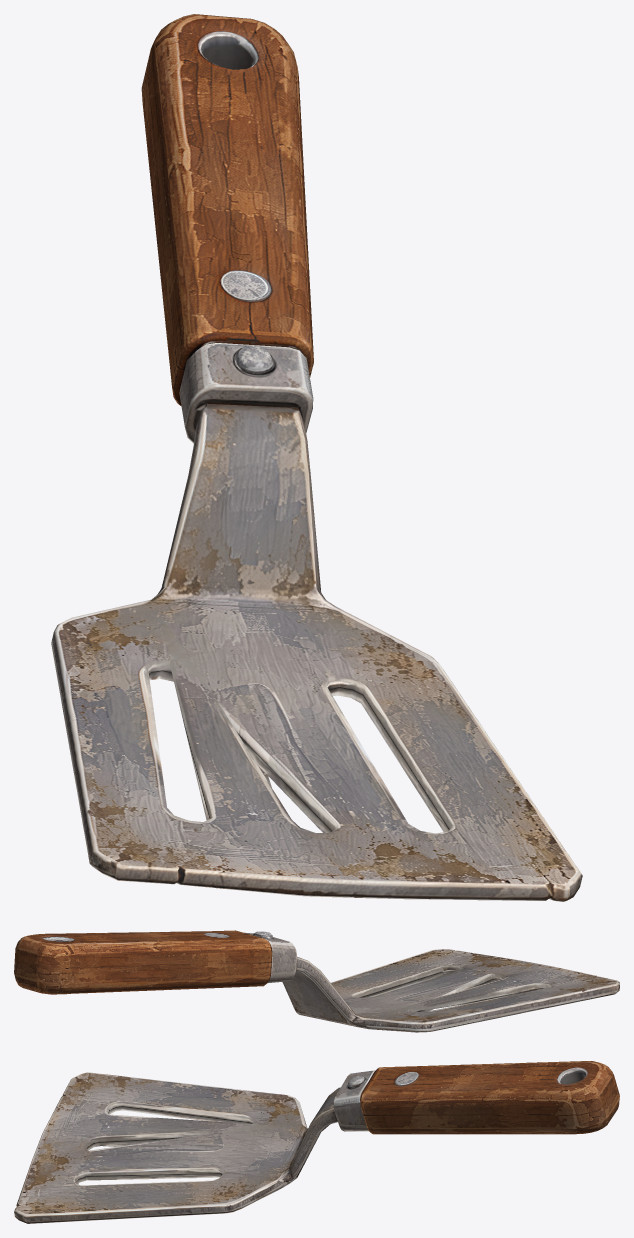
File: P30_flat_spatula_Runtime_1k.glb
3 renders of one model, top to bottom at view 1: azimuth 30°, elevation 25°; view 2: azimuth 150°, elevation 25°; view 3: azimuth 270°, elevation 25°, orthographic. The views are drawn at different scales.
Visible parts, largest first — view 1: tripo_node_29c376e3; view 2: tripo_node_29c376e3; view 3: tripo_node_29c376e3.
Part boxes in pixels (x1,y1,x2,y2): tripo_node_29c376e3: (51,14,582,901); tripo_node_29c376e3: (14,930,619,1032); tripo_node_29c376e3: (14,1061,619,1223).
Size of the model in its own units: 0.1974 by 0.1112 by 0.3.
1 material, 1 textured.
